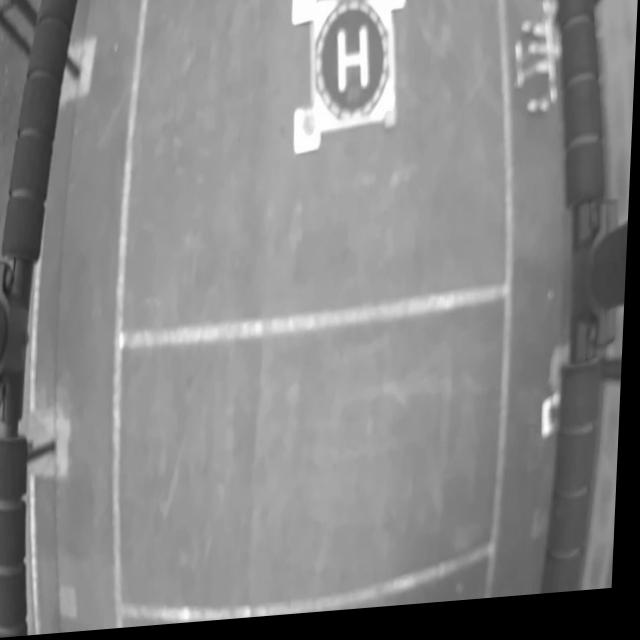Helipad: (337, 31, 371, 97)
